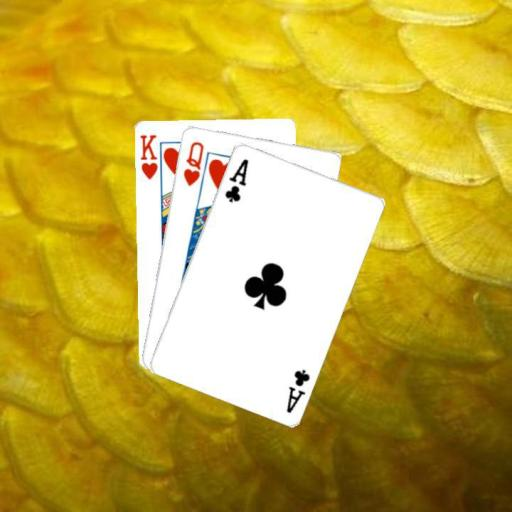AC: (221, 155, 250, 203), (283, 365, 311, 414)
KH: (137, 132, 159, 181)
QH: (180, 138, 205, 187)
